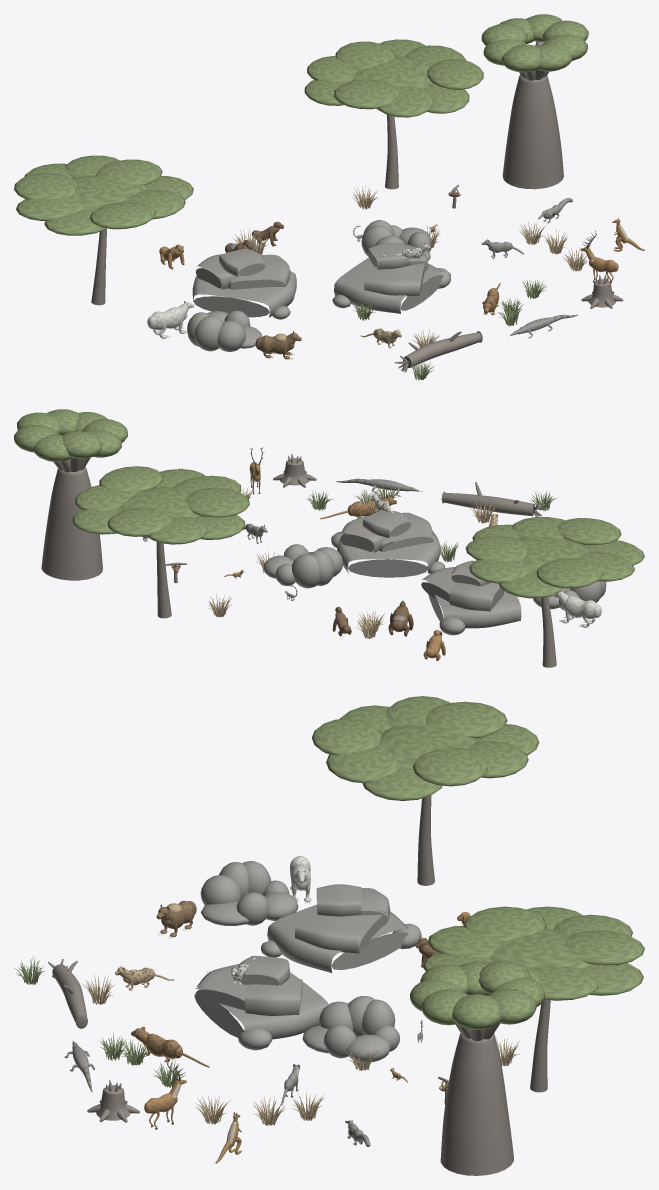
Rendered from exotic-wildlife-hd-rock-ledge-and-forest-edge-8f67c996__30237.glb.
3 views of the same model, one above another, from view 1: azimuth 30°, elevation 25°; view 2: azimuth 150°, elevation 25°; view 3: azimuth 270°, elevation 25° (orthographic). The views are drawn at different scales.
Visible parts, largest first — view 1: 024-umbrella-acacia/1, 022-umbrella-acacia/1, 023-baobab-tree/0, 023-baobab-tree/1, 001-rock-outcrop/0, 000-rock-outcrop/0, 000-rock-outcrop/1, 001-rock-outcrop/1, 020-boulder-cluster/1, 018-fallen-log/0, 020-boulder-cluster/0, 006-polar-bear/0 (+6 smaller); view 2: 024-umbrella-acacia/1, 022-umbrella-acacia/1, 023-baobab-tree/0, 023-baobab-tree/1, 000-rock-outcrop/0, 001-rock-outcrop/0, 000-rock-outcrop/1, 018-fallen-log/0, 021-boulder-cluster/1, 001-rock-outcrop/1, 021-boulder-cluster/0, 006-polar-bear/0 (+9 smaller); view 3: 022-umbrella-acacia/1, 024-umbrella-acacia/1, 023-baobab-tree/0, 023-baobab-tree/1, 000-rock-outcrop/0, 001-rock-outcrop/0, 001-rock-outcrop/1, 000-rock-outcrop/1, 020-boulder-cluster/1, 021-boulder-cluster/0, 020-boulder-cluster/0, 021-boulder-cluster/1 (+8 smaller).
Boxes of the visible parts, box(x1,y1,x2,y2) form: 024-umbrella-acacia/1: box(304, 39, 483, 117); 022-umbrella-acacia/1: box(14, 155, 193, 235); 023-baobab-tree/0: box(502, 41, 563, 189); 023-baobab-tree/1: box(481, 14, 588, 72); 001-rock-outcrop/0: box(192, 254, 296, 317); 000-rock-outcrop/0: box(334, 244, 450, 313); 000-rock-outcrop/1: box(332, 243, 425, 308); 001-rock-outcrop/1: box(218, 248, 290, 319); 020-boulder-cluster/1: box(187, 310, 250, 351); 018-fallen-log/0: box(394, 331, 481, 372); 020-boulder-cluster/0: box(194, 311, 262, 351); 006-polar-bear/0: box(147, 301, 194, 338); 024-umbrella-acacia/1: box(72, 466, 249, 544); 022-umbrella-acacia/1: box(465, 517, 644, 598); 023-baobab-tree/0: box(41, 457, 102, 580); 023-baobab-tree/1: box(14, 409, 127, 461); 000-rock-outcrop/0: box(331, 516, 440, 577); 001-rock-outcrop/0: box(427, 576, 521, 635); 000-rock-outcrop/1: box(360, 510, 445, 573); 018-fallen-log/0: box(443, 482, 544, 516); 021-boulder-cluster/1: box(283, 544, 342, 588); 001-rock-outcrop/1: box(421, 560, 499, 601); 021-boulder-cluster/0: box(263, 550, 334, 585); 006-polar-bear/0: box(553, 590, 601, 627); 022-umbrella-acacia/1: box(312, 696, 539, 800); 024-umbrella-acacia/1: box(423, 906, 644, 1000); 023-baobab-tree/0: box(440, 1023, 513, 1175); 023-baobab-tree/1: box(410, 961, 544, 1029); 000-rock-outcrop/0: box(194, 972, 328, 1050); 001-rock-outcrop/0: box(267, 888, 421, 972); 001-rock-outcrop/1: box(261, 884, 386, 957); 000-rock-outcrop/1: box(195, 955, 289, 1011); 020-boulder-cluster/1: box(200, 861, 270, 925); 021-boulder-cluster/0: box(302, 996, 399, 1062); 020-boulder-cluster/0: box(201, 862, 298, 925); 021-boulder-cluster/1: box(319, 999, 395, 1058).
Bounding box in the file's own units: 32.69 × 7.76 × 24.27.
Materials: 14 (12 with a texture image).
